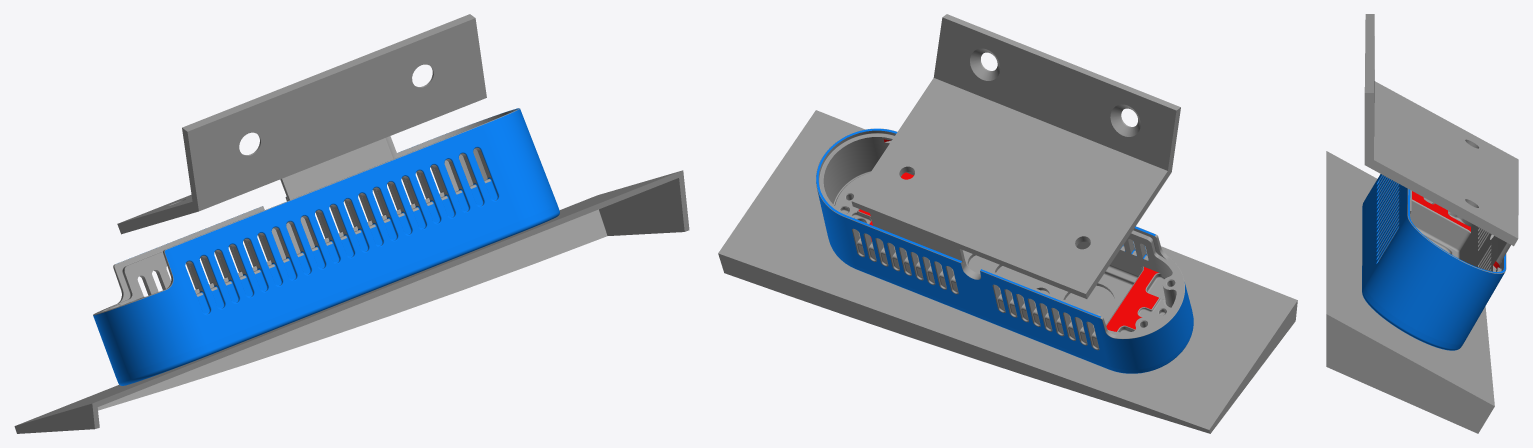
The model's file is camera_left_link.obj.
3 renders of one model, left to right at view 1: azimuth 30°, elevation 25°; view 2: azimuth 150°, elevation 25°; view 3: azimuth 270°, elevation 25°, orthographic. The views are drawn at different scales.
Parts seen in each view (by area): view 1: camera_left; view 2: camera_left; view 3: camera_left.
Part boxes in pixels (x1,y1,x2,y2): camera_left: (14, 14, 689, 433); camera_left: (718, 14, 1297, 433); camera_left: (1326, 14, 1518, 433).
Bounding box in the file's own units: 0.1261 × 0.073 × 0.042.
